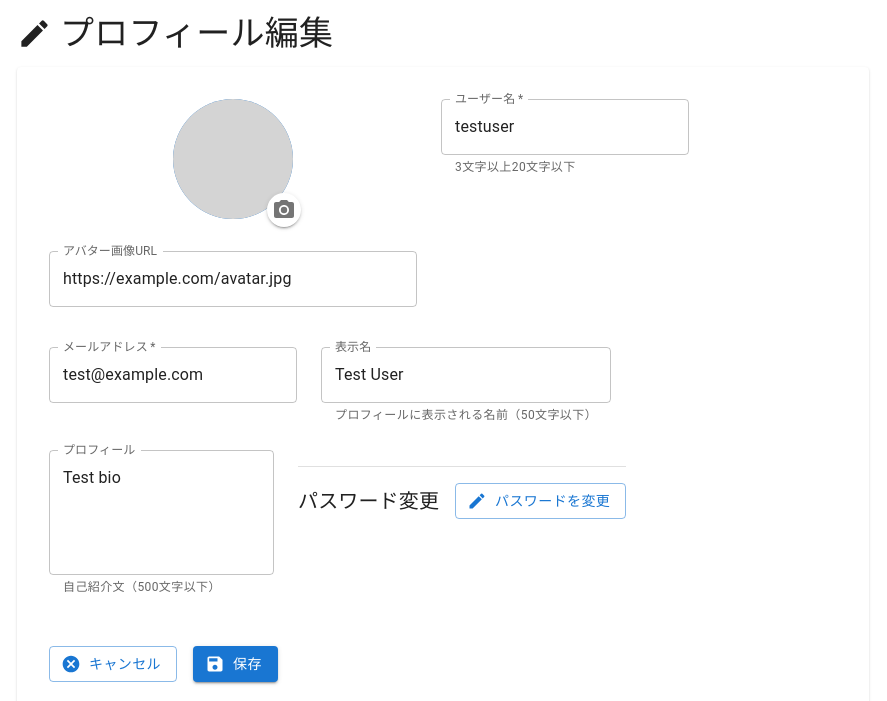
it: ProfileEdit › validates required fields
The width and height of the screenshot is (887, 701).
Clear the field showing "testuser": (565, 127) [441,99,689,155]
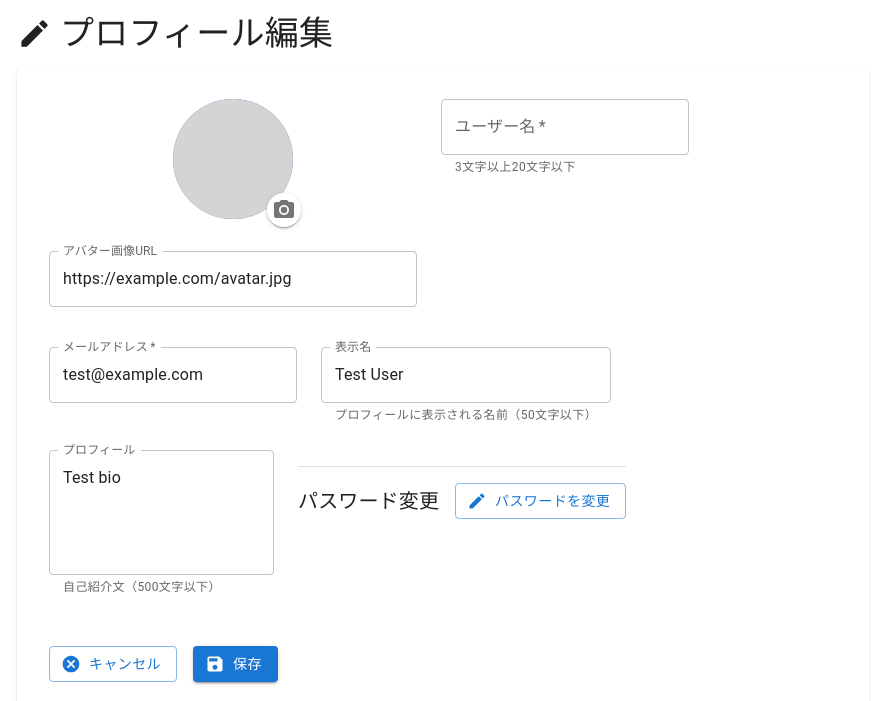
Click the button "保存": (235, 664) [193,646,278,682]
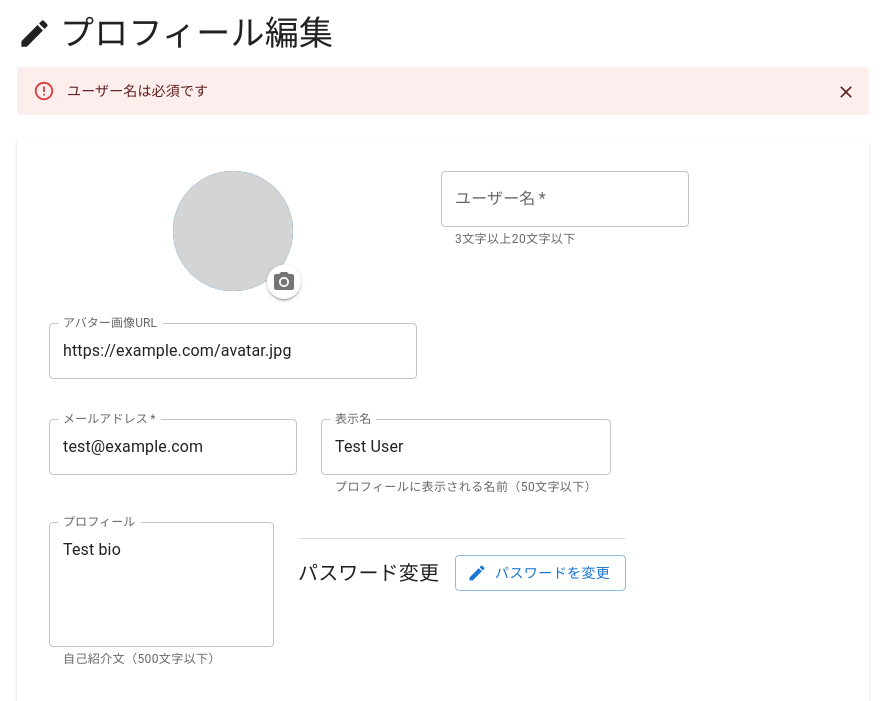
Now the text "ユーザー名は必須です" is shown, box [67,83,208,99]
